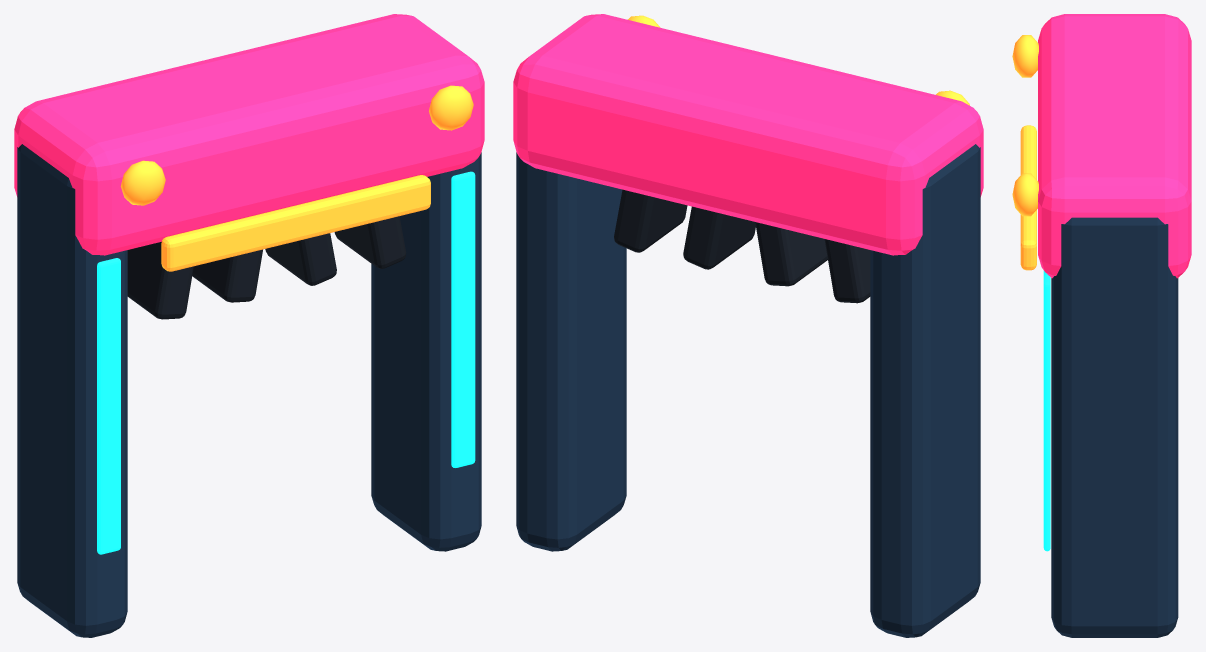
Rendered from gate-premium.glb.
3 views of the same model, side by side, from view 1: azimuth 30°, elevation 25°; view 2: azimuth 150°, elevation 25°; view 3: azimuth 270°, elevation 25° (orthographic). The views are drawn at different scales.
Visible parts, largest first — view 1: GateHeader, GatePylon_-0.92, GatePylon_0.92, GateScanner, GatePylonLight_0.92, GatePylonLight_-0.92, GateTooth_-0.54, GateTooth_-0.18, GateTooth_0.54, GateTooth_0.18, GateBeacon_-0.8, GateBeacon_0.8; view 2: GateHeader, GatePylon_-0.92, GatePylon_0.92, GateTooth_-0.18, GateTooth_0.54, GateTooth_0.18, GateTooth_-0.54; view 3: GatePylon_0.92, GateHeader, GatePylonLight_0.92, GateScanner, GateBeacon_0.8, GateBeacon_-0.8.
Boxes of the visible parts, left/top/right/bottom form: GateHeader: left=14, top=14, right=484, bottom=255; GatePylon_-0.92: left=17, top=144, right=127, bottom=637; GatePylon_0.92: left=371, top=152, right=481, bottom=551; GateScanner: left=161, top=175, right=430, bottom=271; GatePylonLight_0.92: left=451, top=171, right=475, bottom=467; GatePylonLight_-0.92: left=97, top=258, right=120, bottom=554; GateTooth_-0.54: left=127, top=242, right=193, bottom=319; GateTooth_-0.18: left=192, top=249, right=262, bottom=302; GateTooth_0.54: left=334, top=216, right=406, bottom=268; GateTooth_0.18: left=265, top=233, right=336, bottom=285; GateBeacon_-0.8: left=120, top=160, right=165, bottom=205; GateBeacon_0.8: left=429, top=85, right=473, bottom=130; GateHeader: left=513, top=14, right=983, bottom=255; GatePylon_-0.92: left=870, top=144, right=980, bottom=637; GatePylon_0.92: left=516, top=152, right=626, bottom=551; GateTooth_-0.18: left=755, top=222, right=827, bottom=286; GateTooth_0.54: left=614, top=189, right=687, bottom=252; GateTooth_0.18: left=683, top=206, right=755, bottom=269; GateTooth_-0.54: left=824, top=239, right=870, bottom=303; GatePylon_0.92: left=1051, top=217, right=1178, bottom=637; GateHeader: left=1038, top=14, right=1191, bottom=278; GatePylonLight_0.92: left=1043, top=274, right=1050, bottom=551; GateScanner: left=1020, top=125, right=1036, bottom=270; GateBeacon_0.8: left=1012, top=173, right=1038, bottom=216; GateBeacon_-0.8: left=1012, top=35, right=1038, bottom=77.
Size of the model in its own units: 2.14 by 2.46 by 0.875.
